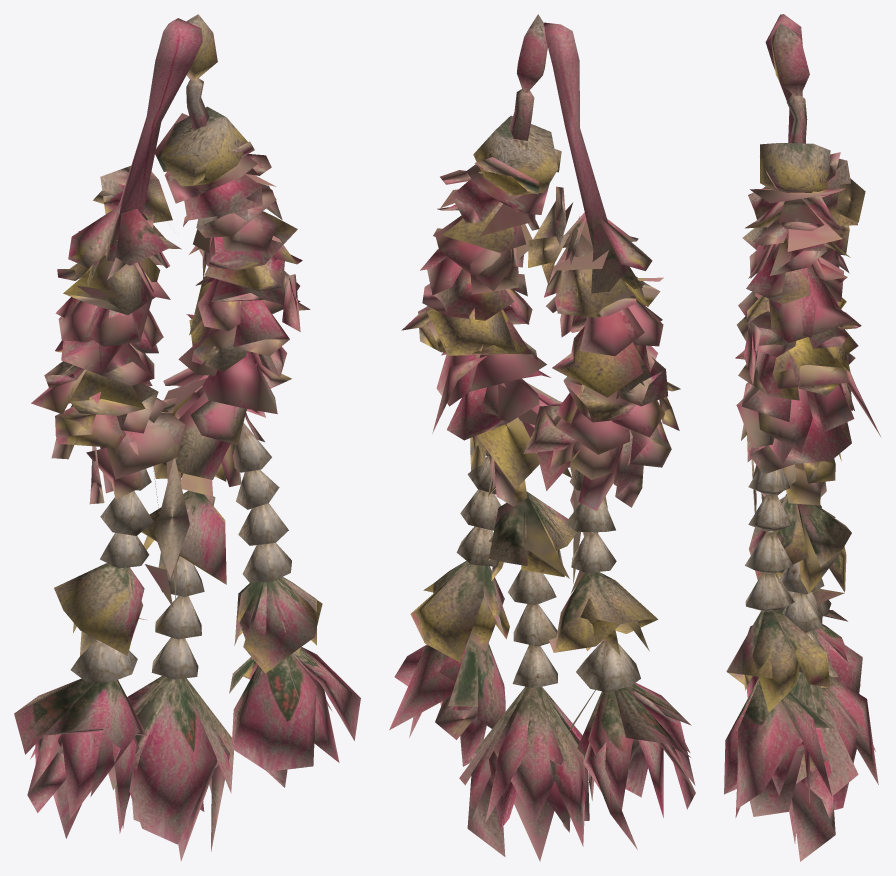
File: Meshy_AI_Faded_Floral_Garland_20261028_texture.fbx
3 views of the same model, side by side, from view 1: azimuth 30°, elevation 25°; view 2: azimuth 150°, elevation 25°; view 3: azimuth 270°, elevation 25° (orthographic). The views are drawn at different scales.
Parts seen in each view (by area): view 1: Mesh_0; view 2: Mesh_0; view 3: Mesh_0.
Boxes of the visible parts, x1,y1,x2,y2 form: Mesh_0: (14,14,360,861); Mesh_0: (389,14,695,861); Mesh_0: (724,14,881,861).
Bounding box in the file's own units: 37.45 × 95.46 × 16.5.
Materials: 1 (1 with a texture image).
